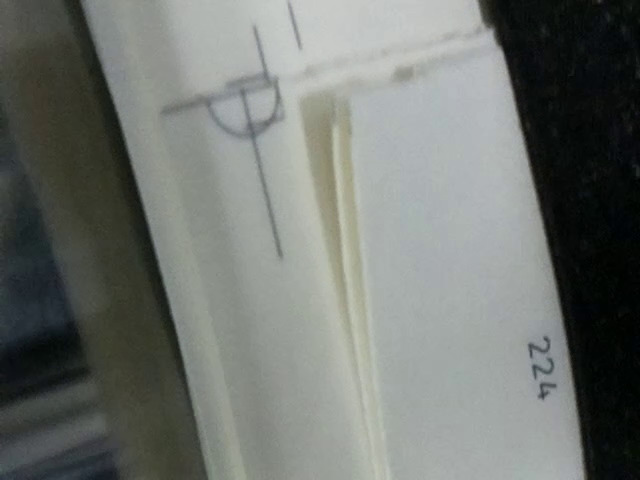misaligned: (159, 25, 292, 145)
